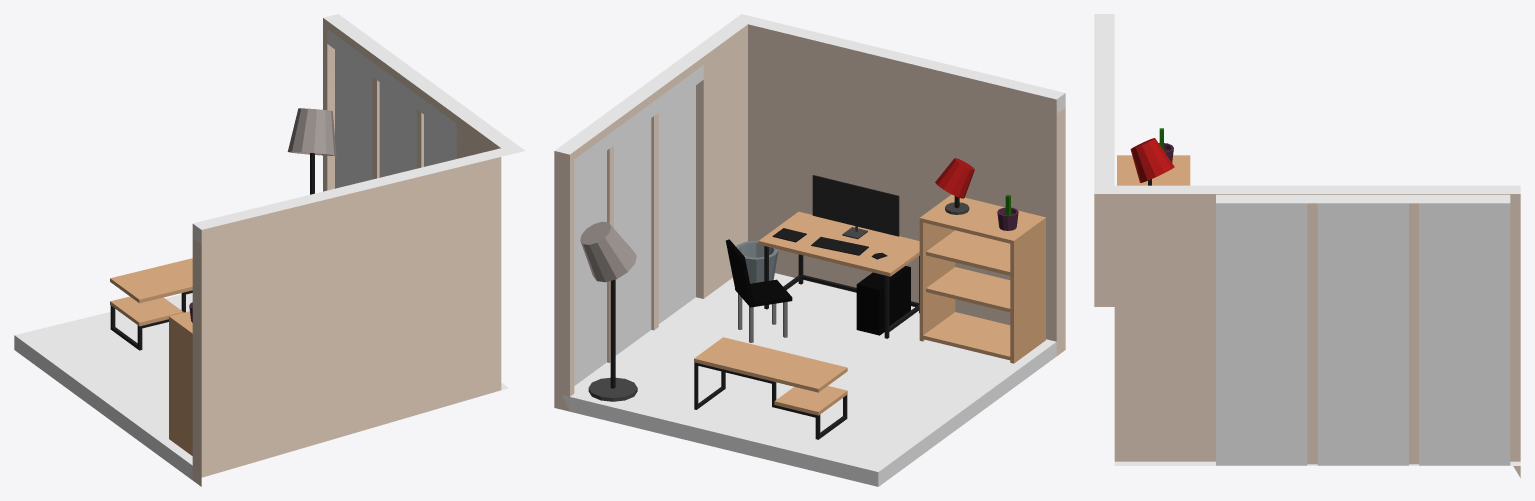
The model's file is main.glb.
The picture shows the model from 3 angles, left to right: view 1: azimuth 30°, elevation 25°; view 2: azimuth 150°, elevation 25°; view 3: azimuth 270°, elevation 25°; orthographic projection. The views are drawn at different scales.
Visible parts, largest first — view 1: Cube.001, Cube.002, Window.0, Bookshelf, Window.1, BookStand.001, Cylinder, BookStand, Window.2, Cube.008, BookStand.002; view 2: Cube.001, Cube.002, Bookshelf, Window.2, Window.1, Window.0, Desk, BookStand.001, Cube.015, Computer, Cylinder, Chair (+10 smaller); view 3: Cube.001, Window.0, Window.1, Window.2, Cube.002, Cube.007, Cube.008, Bookshelf, Cylinder.002.
Boxes of the visible parts, <box> form: Cube.001: <box>192,18,501,486</box>; Cube.002: <box>14,14,524,479</box>; Window.0: <box>335,49,372,188</box>; Bookshelf: <box>169,311,192,455</box>; Window.1: <box>379,82,416,177</box>; BookStand.001: <box>110,258,192,303</box>; Cylinder: <box>287,108,336,155</box>; BookStand: <box>110,296,183,326</box>; Window.2: <box>424,115,456,166</box>; Cube.008: <box>372,77,379,179</box>; BookStand.002: <box>110,290,192,350</box>; Cube.001: <box>554,24,1065,411</box>; Cube.002: <box>555,14,1065,486</box>; Bookshelf: <box>919,194,1045,363</box>; Window.2: <box>658,85,695,323</box>; Window.1: <box>614,118,651,355</box>; Window.0: <box>574,150,606,385</box>; Desk: <box>758,211,919,276</box>; BookStand.001: <box>694,337,847,392</box>; Cube.015: <box>812,175,899,236</box>; Computer: <box>856,266,910,335</box>; Cylinder: <box>580,221,636,282</box>; Chair: <box>726,239,792,307</box>; Cube.001: <box>1094,194,1520,477</box>; Window.0: <box>1419,203,1510,465</box>; Window.1: <box>1317,203,1408,465</box>; Window.2: <box>1216,203,1307,465</box>; Cube.002: <box>1094,14,1520,465</box>; Cube.007: <box>1307,203,1317,464</box>; Cube.008: <box>1409,203,1418,464</box>; Bookshelf: <box>1117,155,1190,185</box>; Cylinder.002: <box>1130,138,1174,182</box>.
Size of the model in its own units: 3.02 by 2.29 by 3.02.
